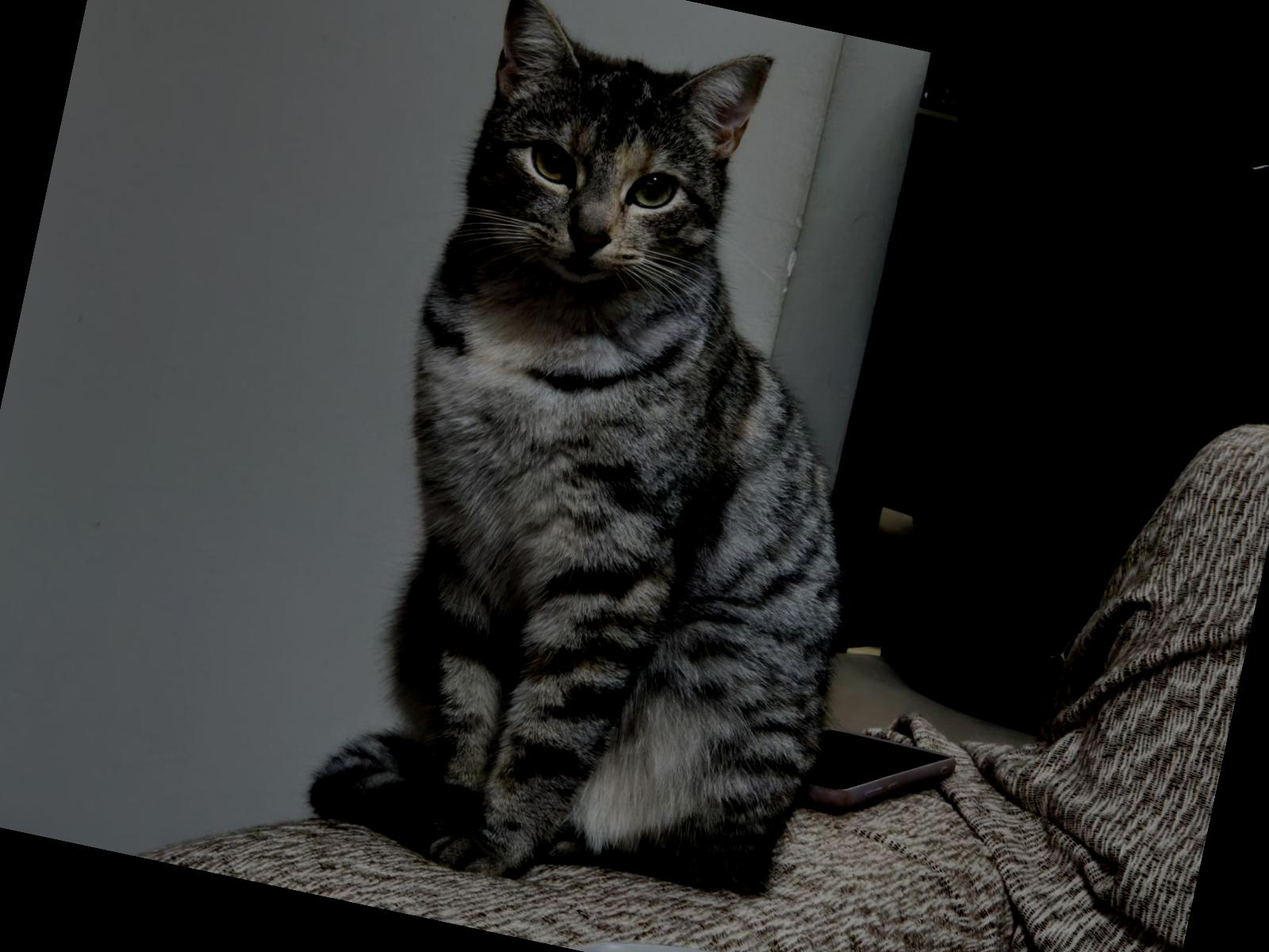macka: (296, 0, 964, 939)
